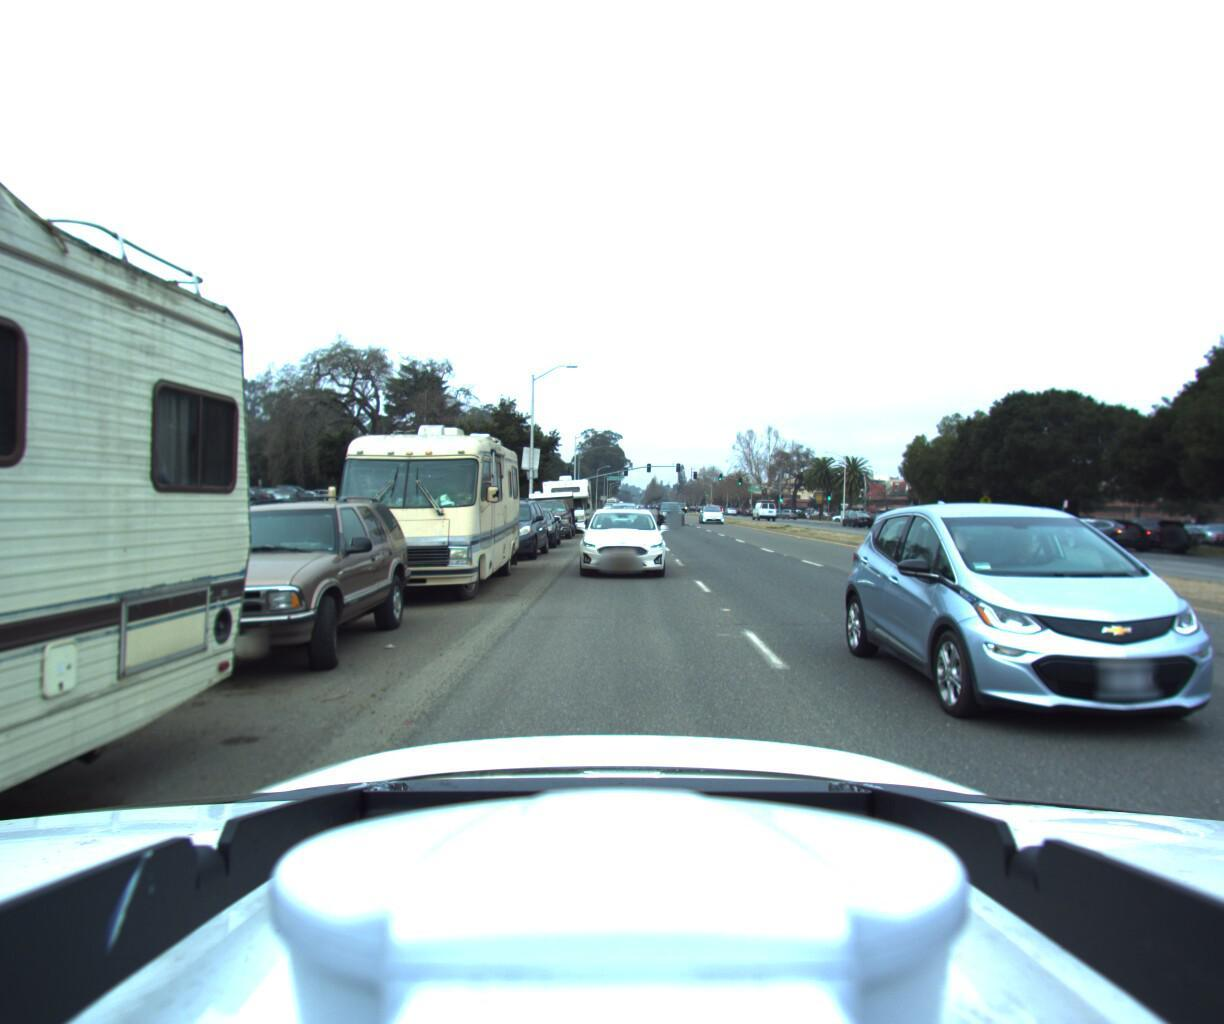car: (878, 505, 1224, 839), (95, 489, 424, 696), (571, 506, 669, 580), (460, 497, 555, 566), (1095, 516, 1192, 553), (517, 489, 579, 542), (1056, 514, 1146, 547), (503, 507, 562, 552), (659, 502, 687, 525), (700, 503, 728, 523), (841, 511, 875, 527), (1217, 522, 1224, 568)
other_vehicle: (304, 408, 536, 611), (536, 475, 594, 534)
